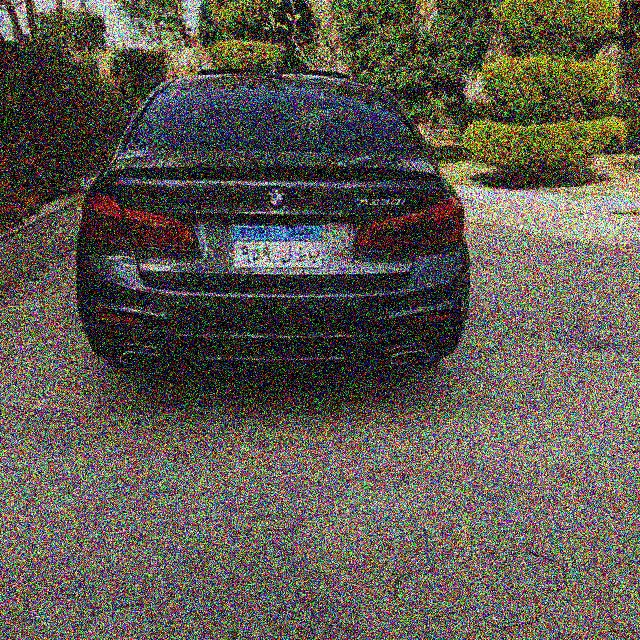License Plate: (230, 223, 325, 271)
